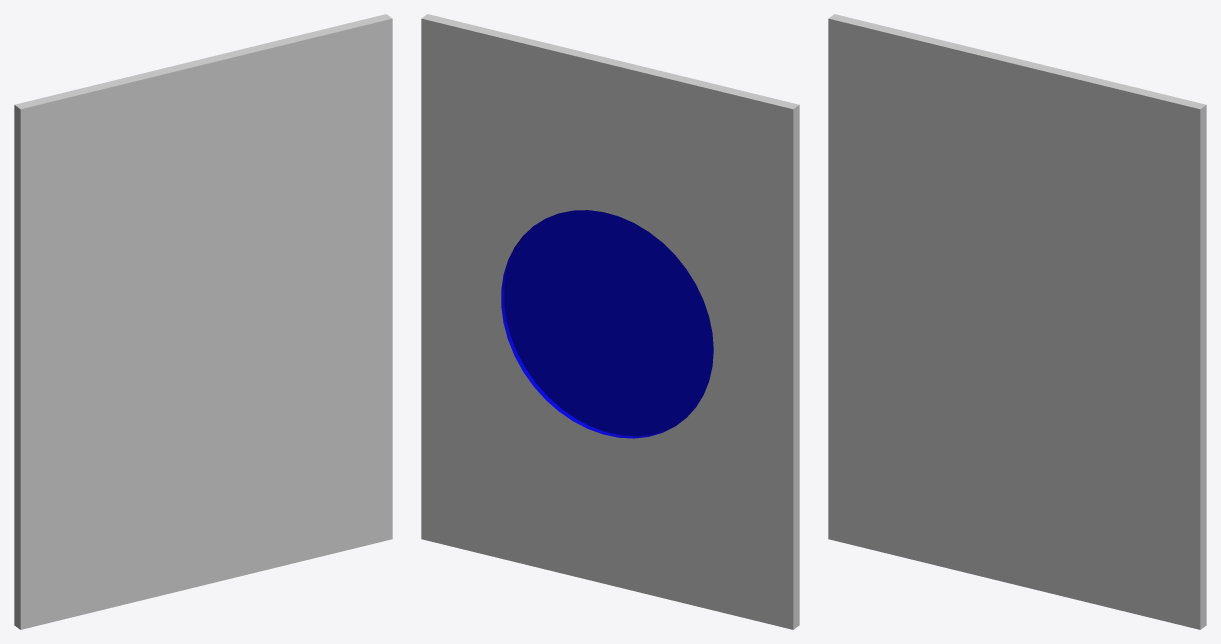
File: blue_circle.dae
3 renders of one model, left to right at view 1: azimuth 30°, elevation 25°; view 2: azimuth 150°, elevation 25°; view 3: azimuth 330°, elevation 25°, orthographic.
Parts seen in each view (by area): view 1: ShapeIndexedFaceSet; view 2: ShapeIndexedFaceSet; view 3: ShapeIndexedFaceSet.
Part boxes in pixels (left/top/right/bottom): ShapeIndexedFaceSet: left=14, top=14, right=392, bottom=629; ShapeIndexedFaceSet: left=421, top=14, right=799, bottom=629; ShapeIndexedFaceSet: left=828, top=14, right=1206, bottom=629.
Bounding box in the file's own units: 1.75 × 0.0508 × 2.34.
